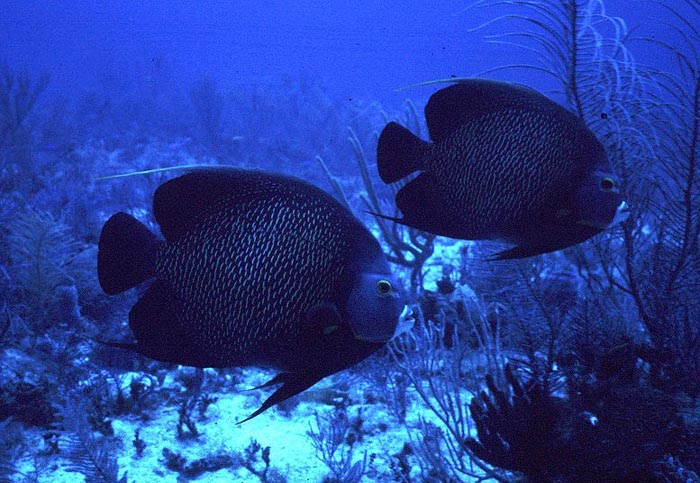Pomacanthus_paru: (94, 166, 410, 412), (376, 63, 634, 268)
